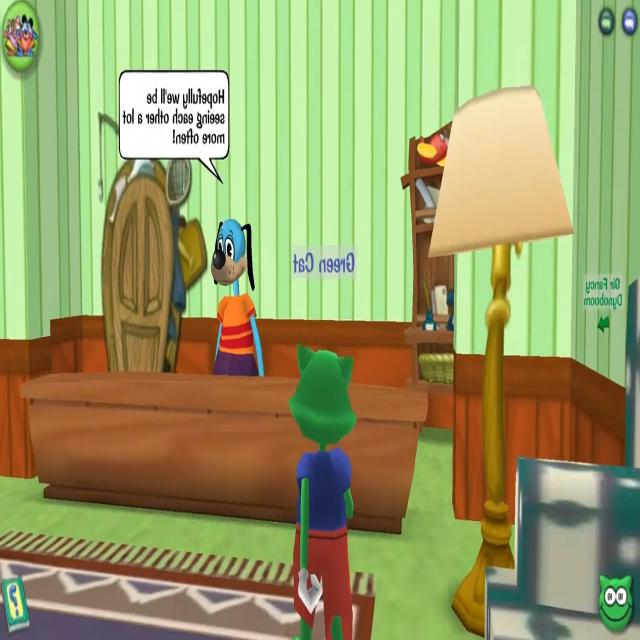npc: (202, 204, 266, 398)
